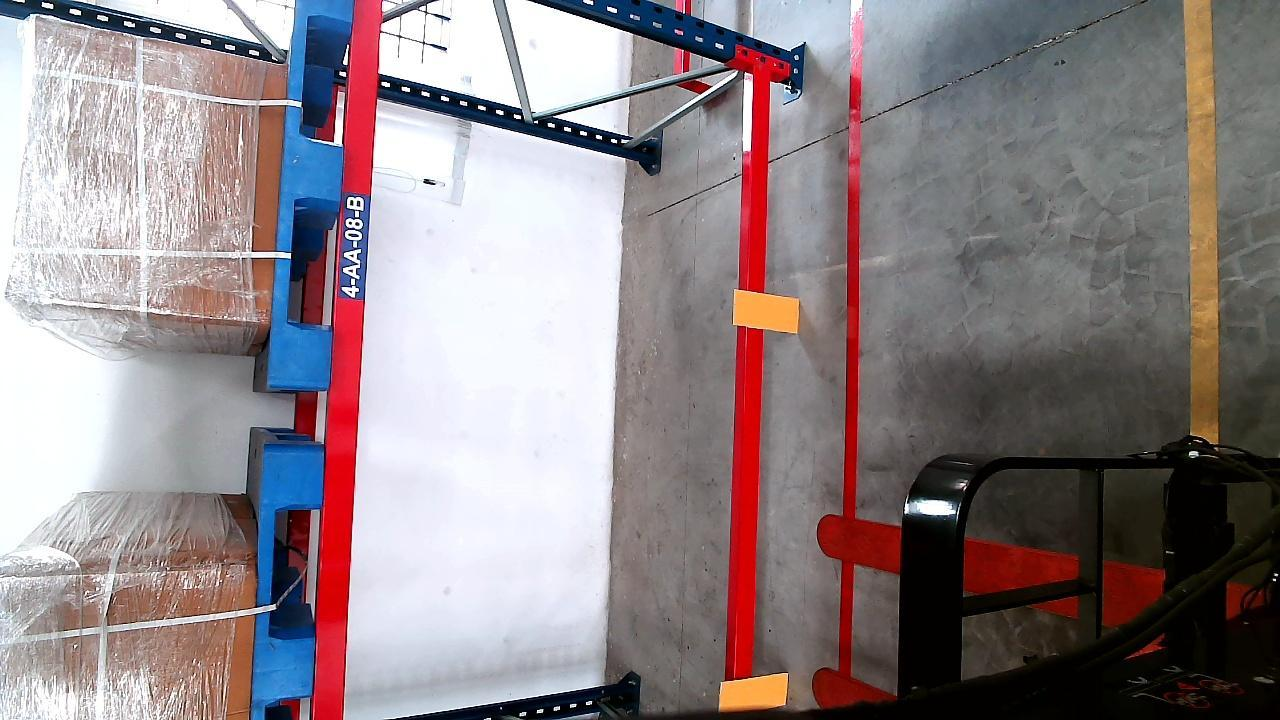red_line: (834, 26, 865, 668)
yellow_line: (1187, 0, 1223, 449)
